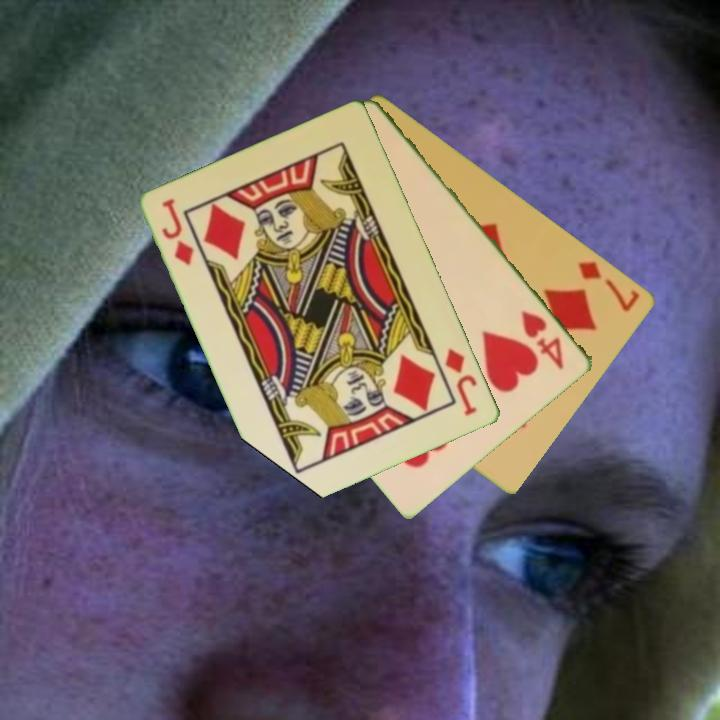4h: (518, 306, 568, 373)
7d: (575, 257, 643, 315)
Jd: (441, 345, 481, 419), (159, 195, 198, 269)
